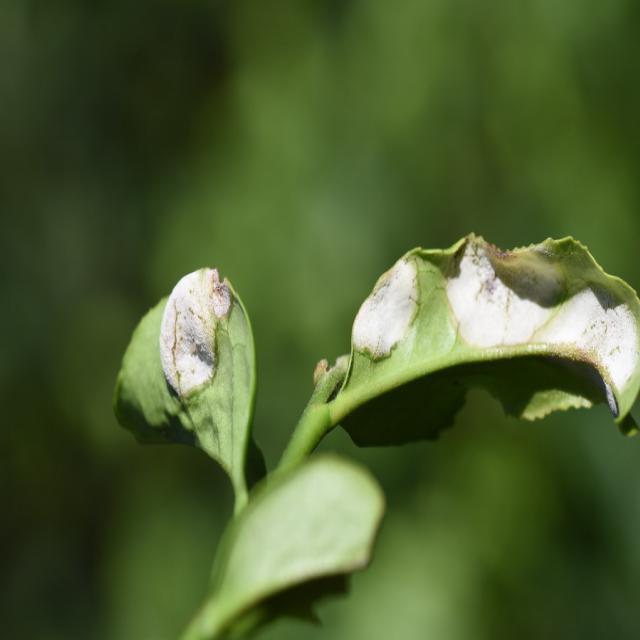Tea cake: (451, 220, 565, 362), (158, 270, 241, 391), (552, 275, 639, 387), (351, 243, 426, 355)
